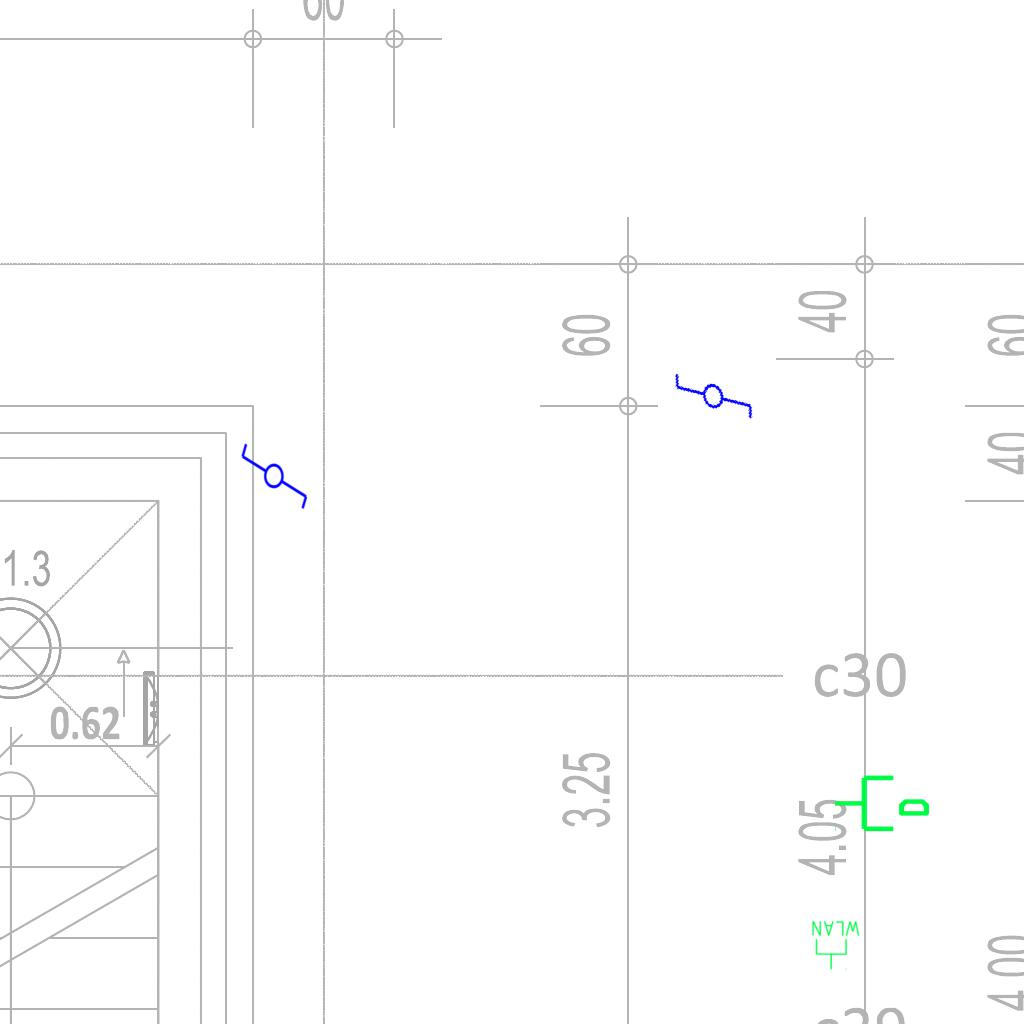Datenanschluss_einfach: (832, 767, 932, 836)
WLAN: (810, 919, 862, 971)
Wechselschalter: (666, 343, 760, 441), (239, 433, 311, 511)
